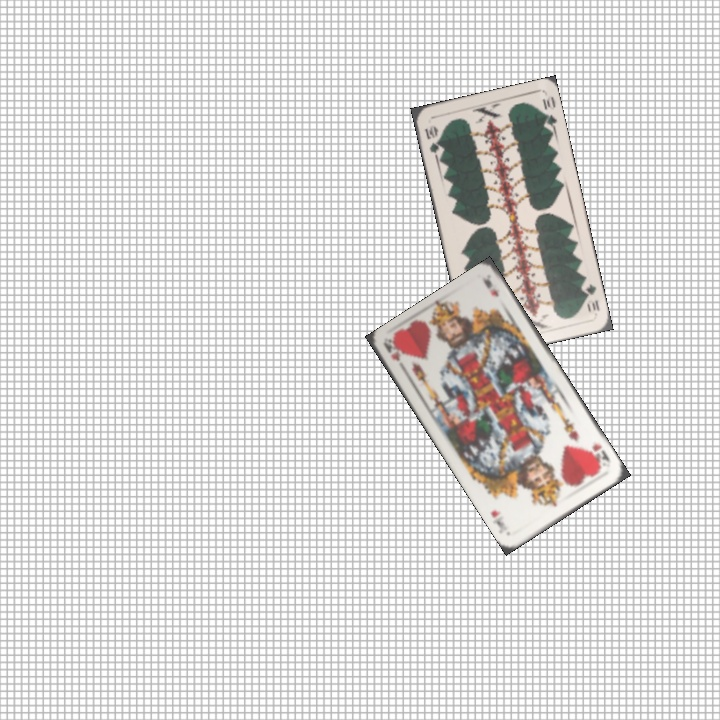G10: (420, 121, 443, 160), (579, 280, 602, 316)
HK: (380, 337, 408, 376), (587, 439, 613, 471)
